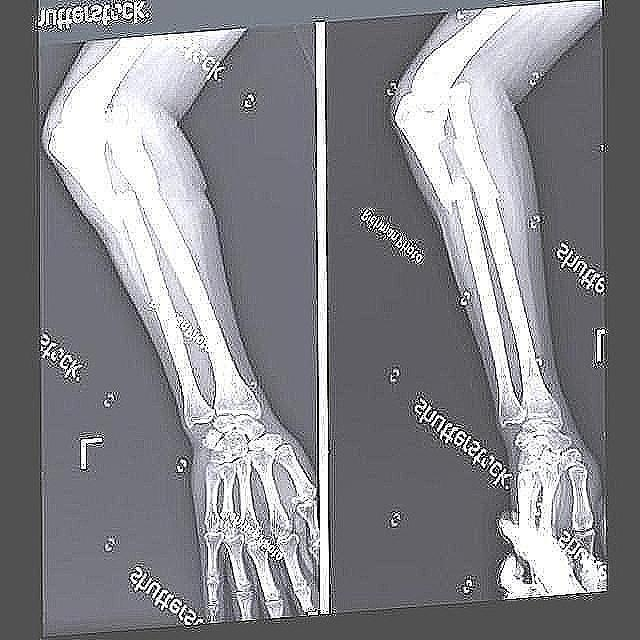bone: (431, 166, 469, 213), (103, 186, 137, 234), (473, 176, 502, 216), (128, 177, 164, 204)
